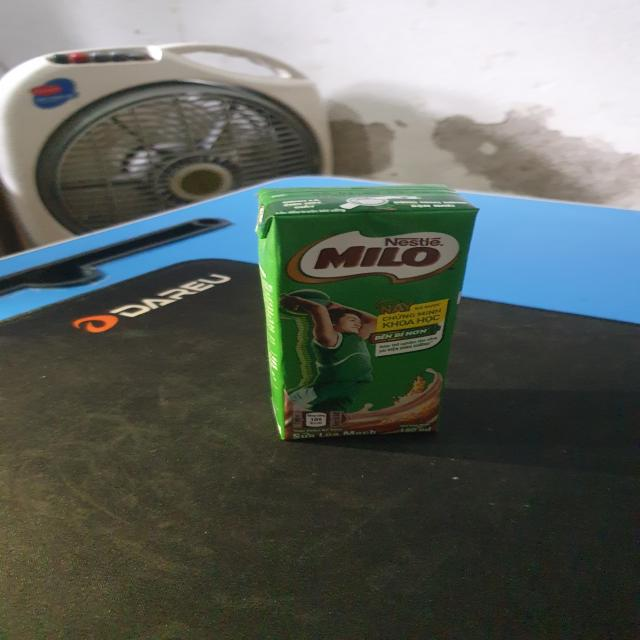Milo: (263, 180, 481, 439)
